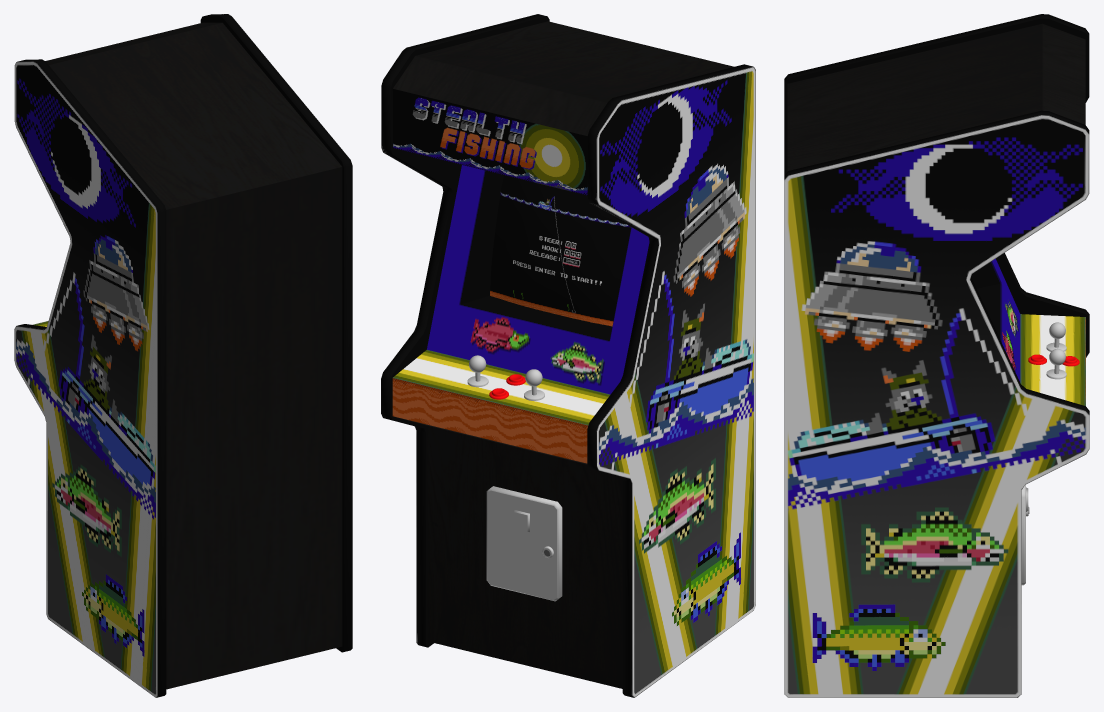
Rendered from cabinet4.fbx.
3 views of the same model, side by side, from view 1: azimuth 30°, elevation 25°; view 2: azimuth 150°, elevation 25°; view 3: azimuth 270°, elevation 25° (orthographic). The views are drawn at different scales.
Visible parts, largest first — view 1: cabinet; view 2: cabinet; view 3: cabinet.
Boxes of the visible parts, left/top/right/bottom form: cabinet: left=14, top=14, right=352, bottom=697; cabinet: left=381, top=14, right=755, bottom=697; cabinet: left=784, top=14, right=1089, bottom=697.
Size of the model in its own units: 87.3 by 234 by 111.
